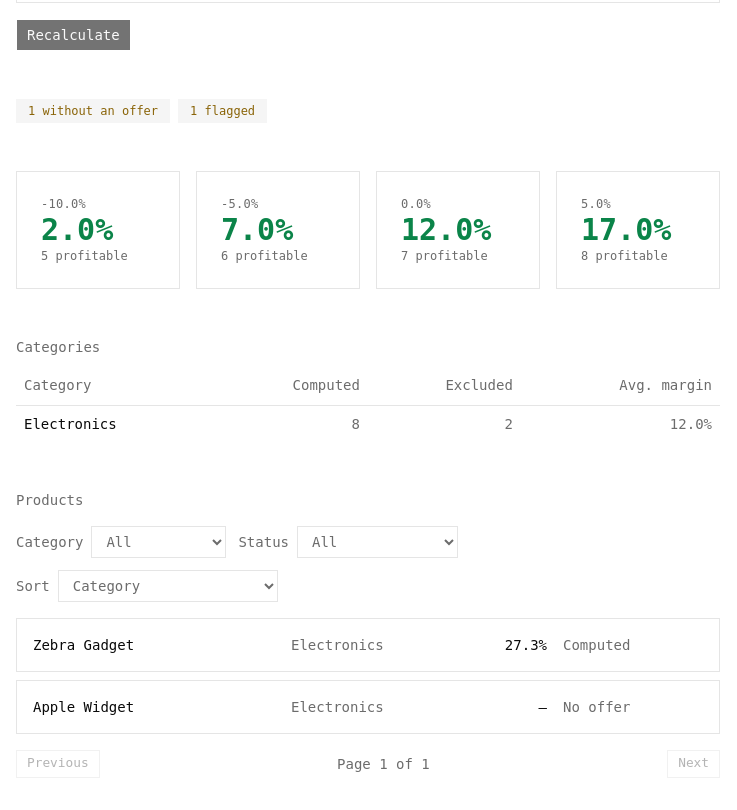
Test: ReportStep product drill-down › expands a row to show offer details and the full margin matrix
(page scrolled)
Click the text "Zebra Gadget".
click(84, 644)  # box [33,636,134,652]
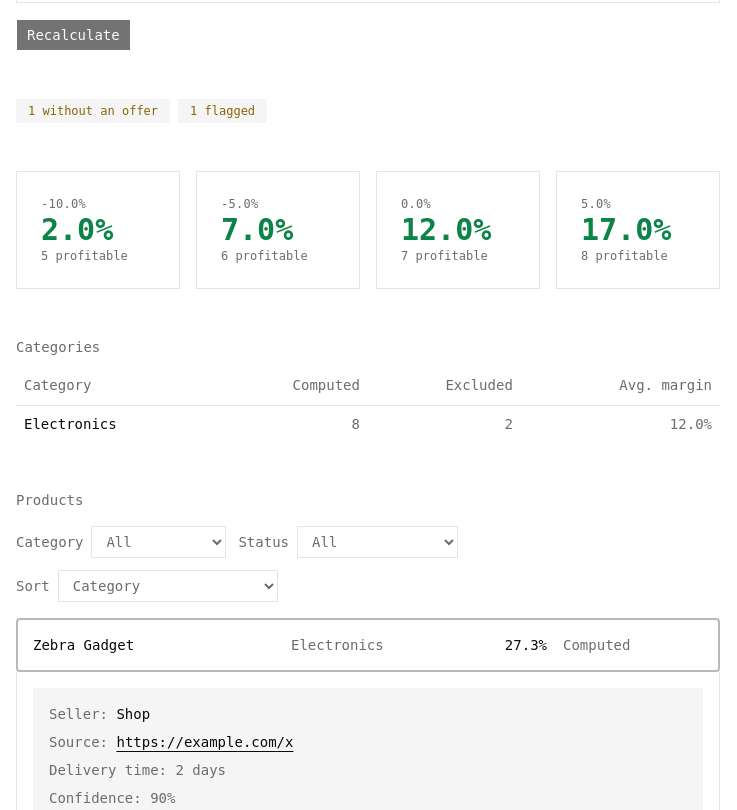
Result: the text "Shop" is shown at [116,706,150,722]
Result: the link "https://example.com/x" is shown at [116,734,294,750]
